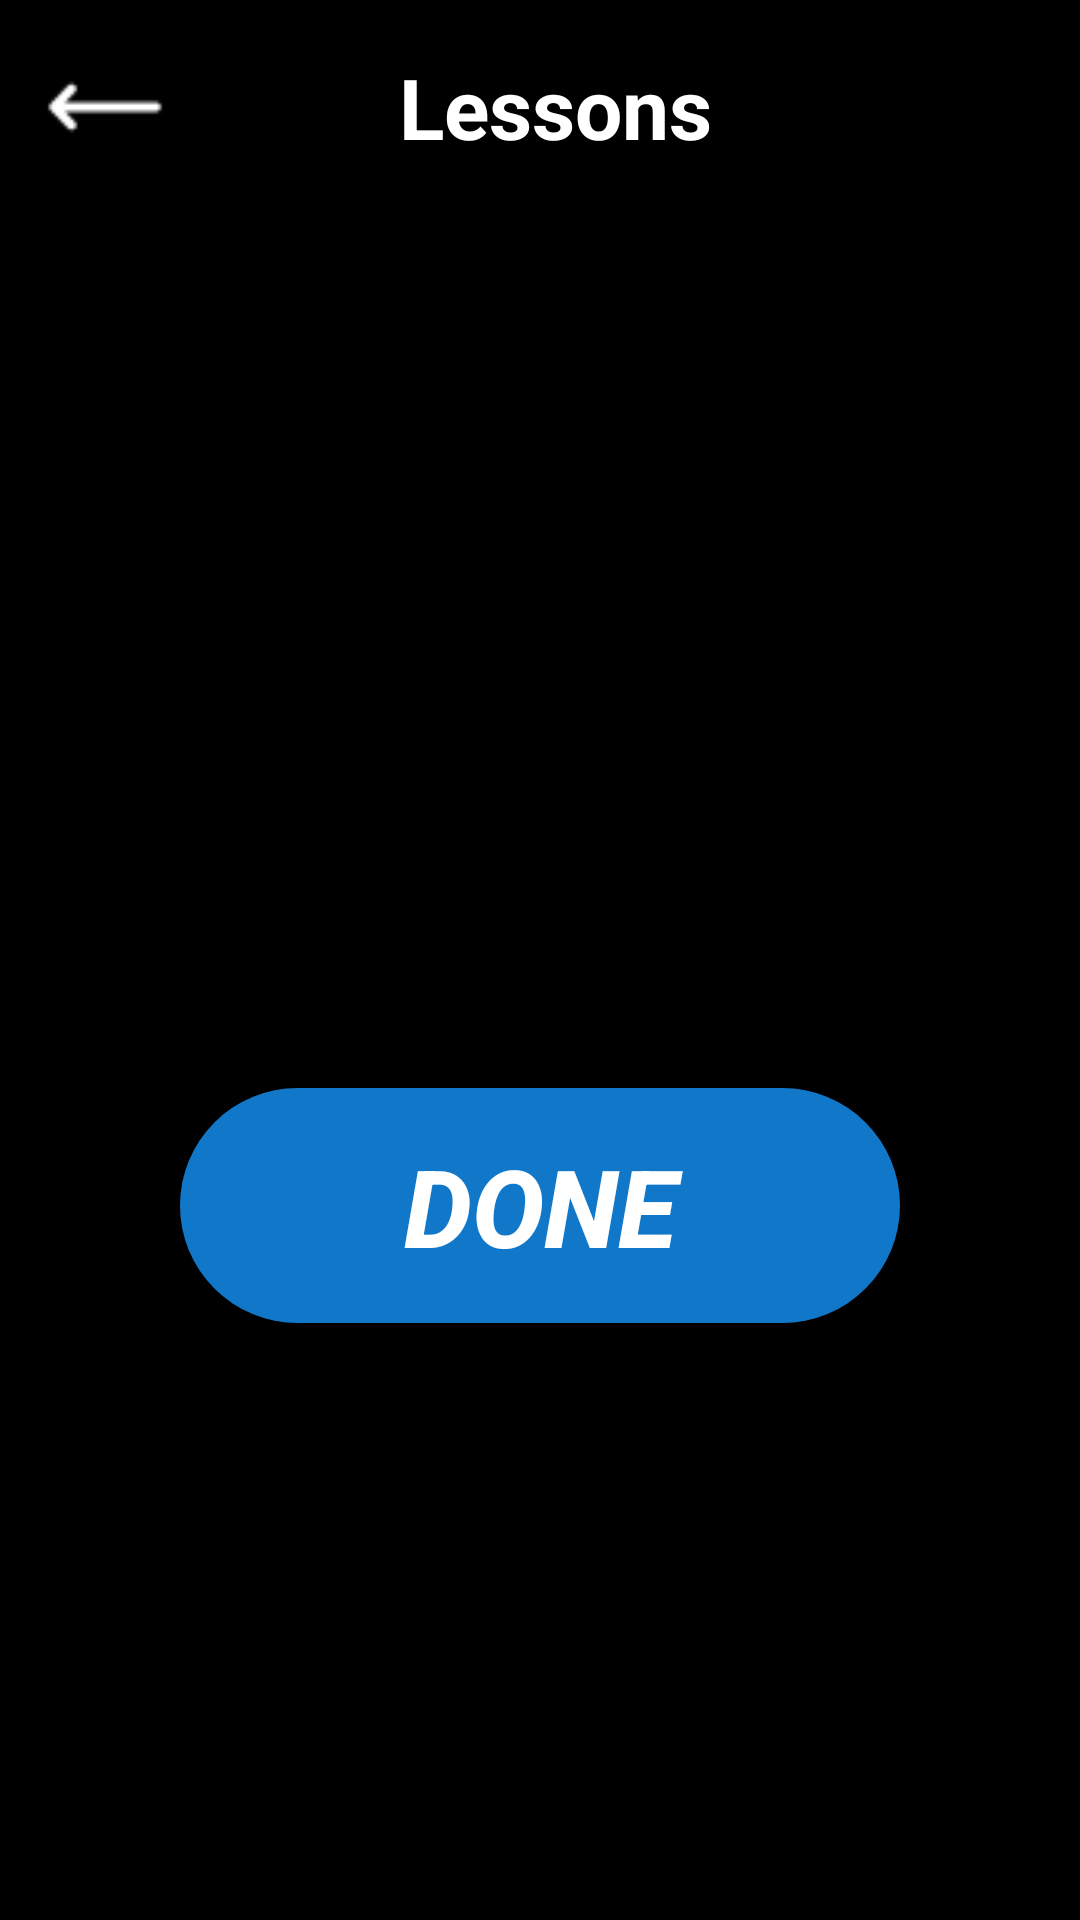

Icon click points for this 1080px x 1920px phone screenshot, format [x,y]:
vlevo: [105,107]
